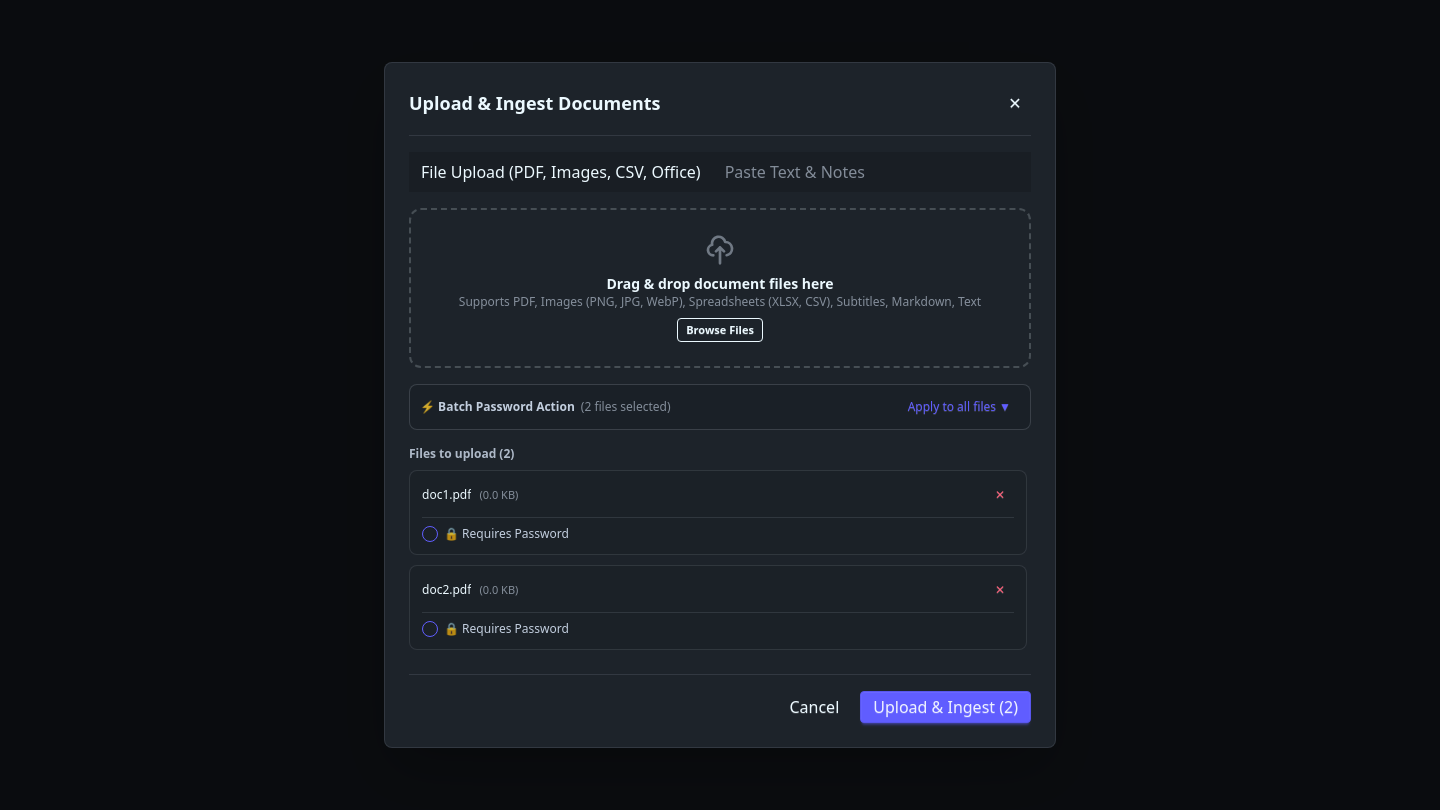
Test: supports 'Apply to All' batch action
Expected: the text "doc1.pdf" is shown, [422, 487, 471, 503]
Step 1. Click the button "Apply to all files ▼" → (959, 407), box [899, 395, 1020, 419]
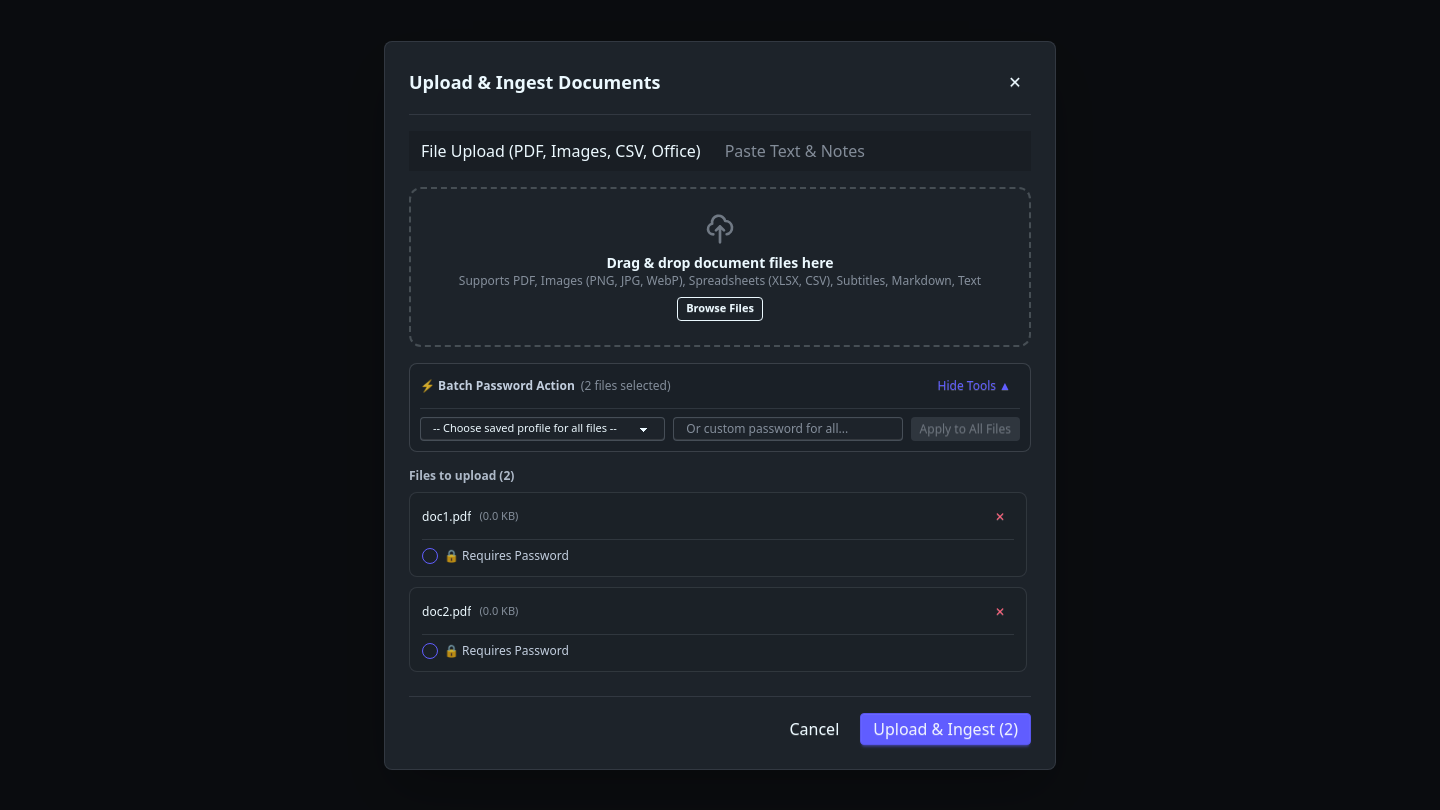
Select payroll_corp for all
Step 2. Select "Corporate Payroll (Hint: Employee ID)" in the dropdown named "Batch password profile" → (543, 428), box [420, 416, 665, 440]
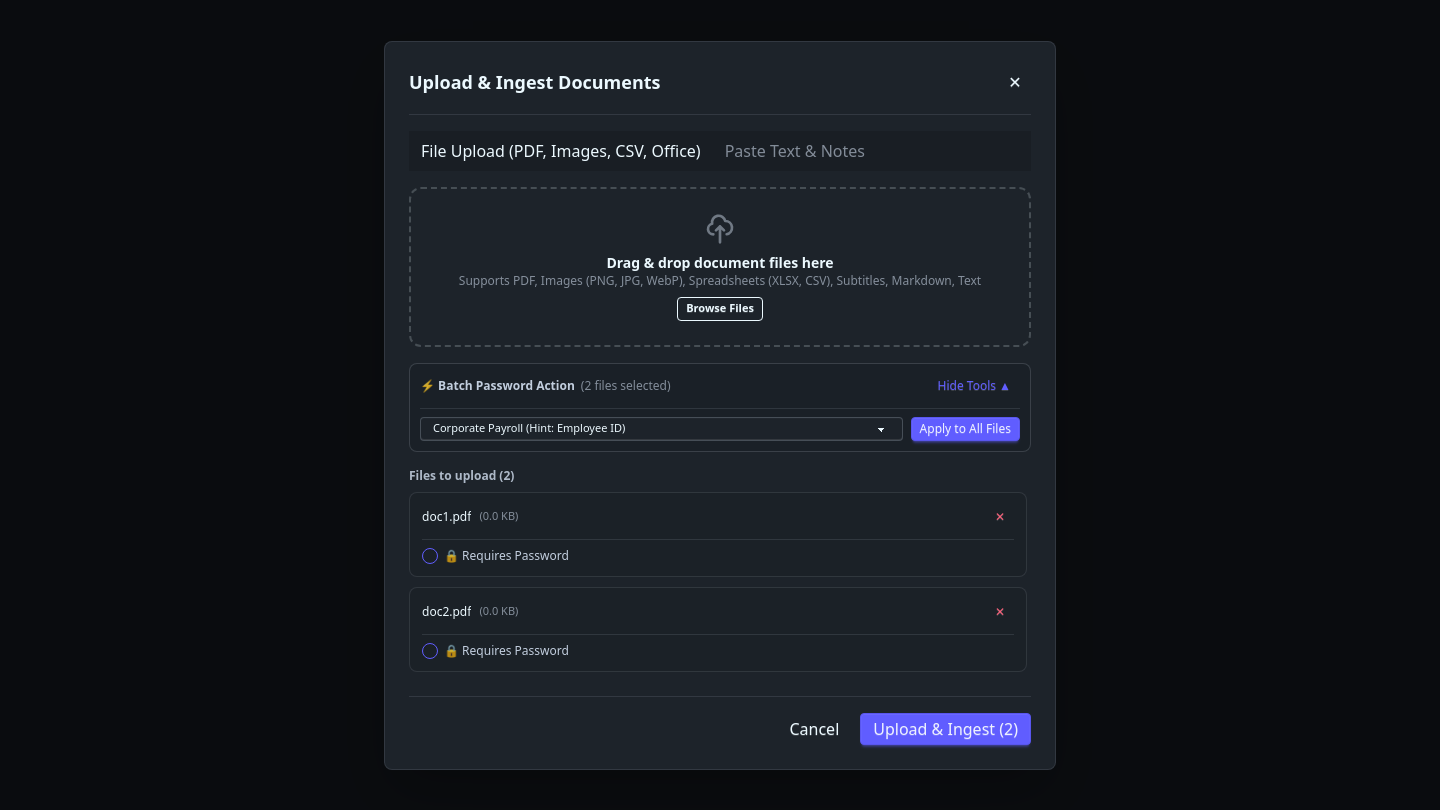
Step 3. Click the button "Apply to All Files" → (965, 428), box [911, 416, 1020, 440]
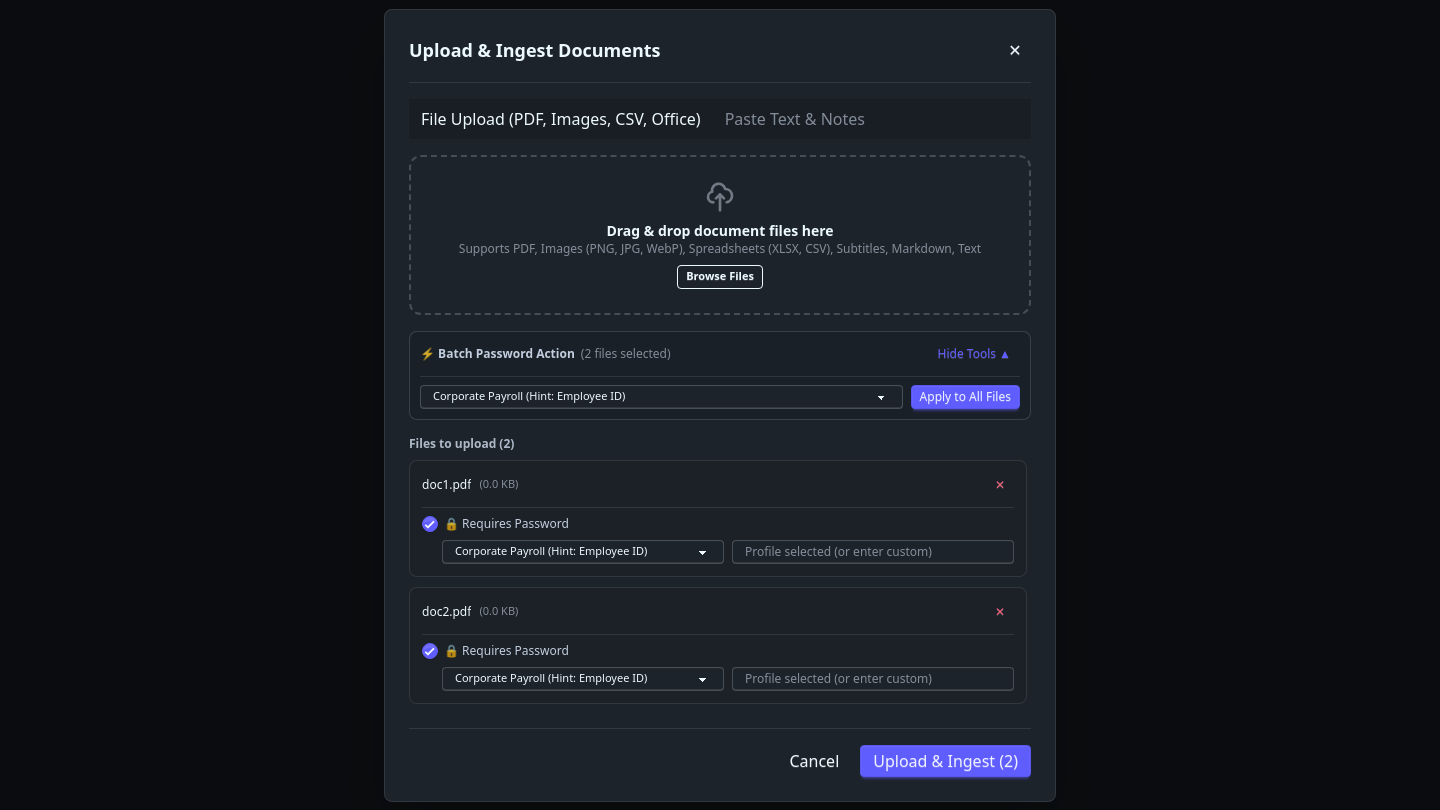
Now the dropdown named "Password profile for doc1.pdf" shows "Corporate Payroll (Hint: Employee ID)", box [442, 540, 724, 564]
Now the dropdown named "Password profile for doc2.pdf" shows "Corporate Payroll (Hint: Employee ID)", box [442, 666, 724, 690]
